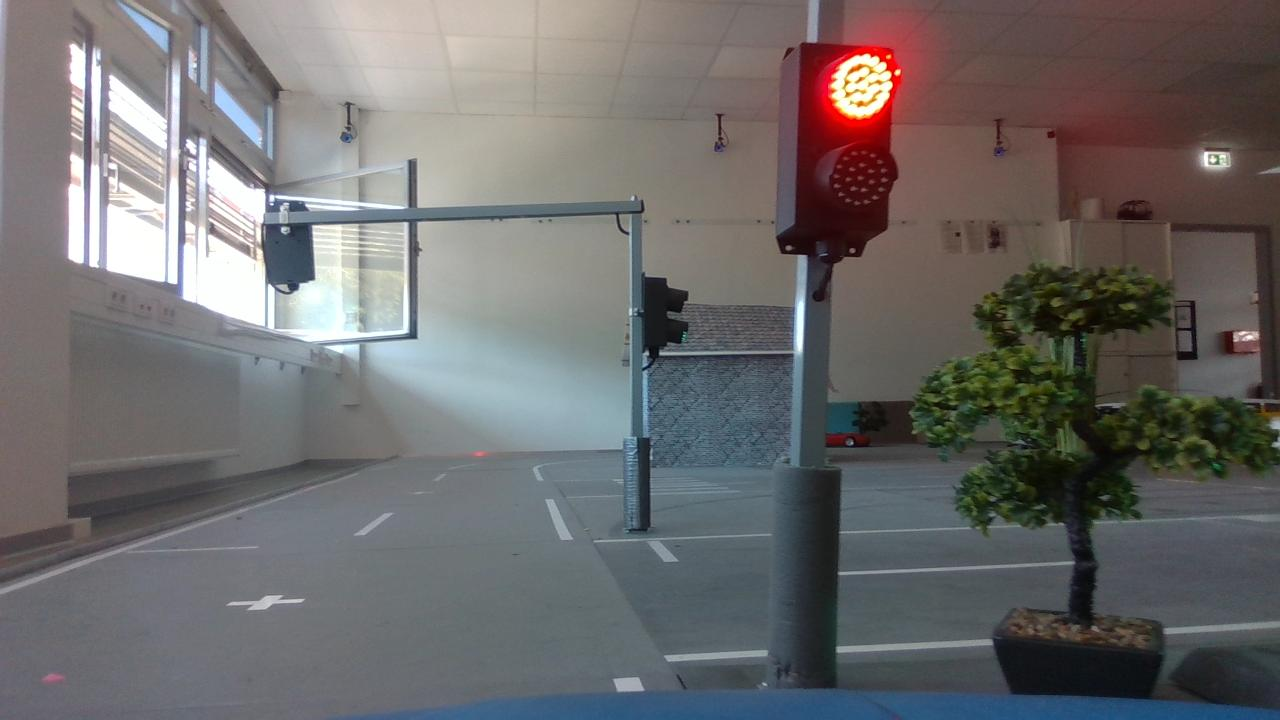traffic_light_red: (764, 29, 908, 274)
